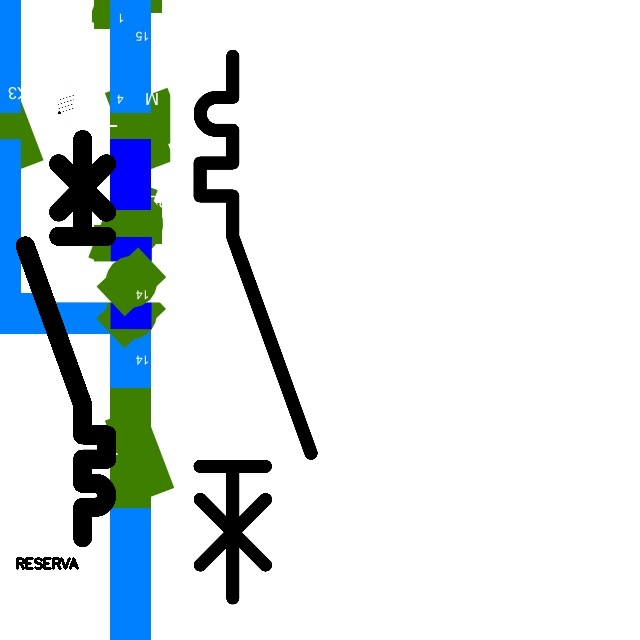interruptor_termomagnetico: (186, 42, 325, 612), (15, 129, 117, 547)
